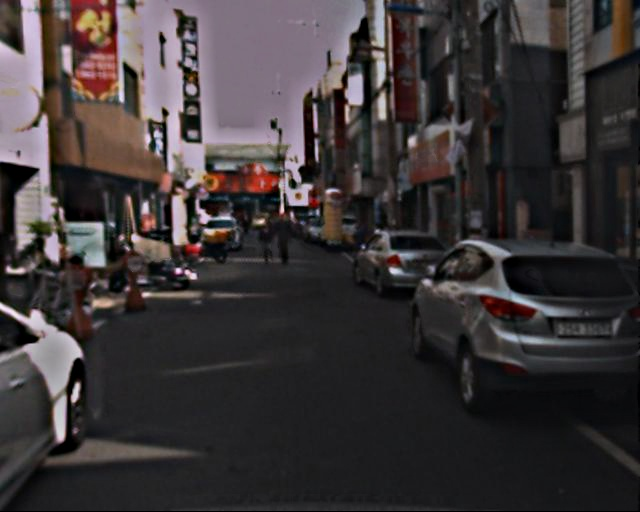person: (275, 213, 299, 274), (351, 213, 374, 276), (258, 218, 278, 271)
